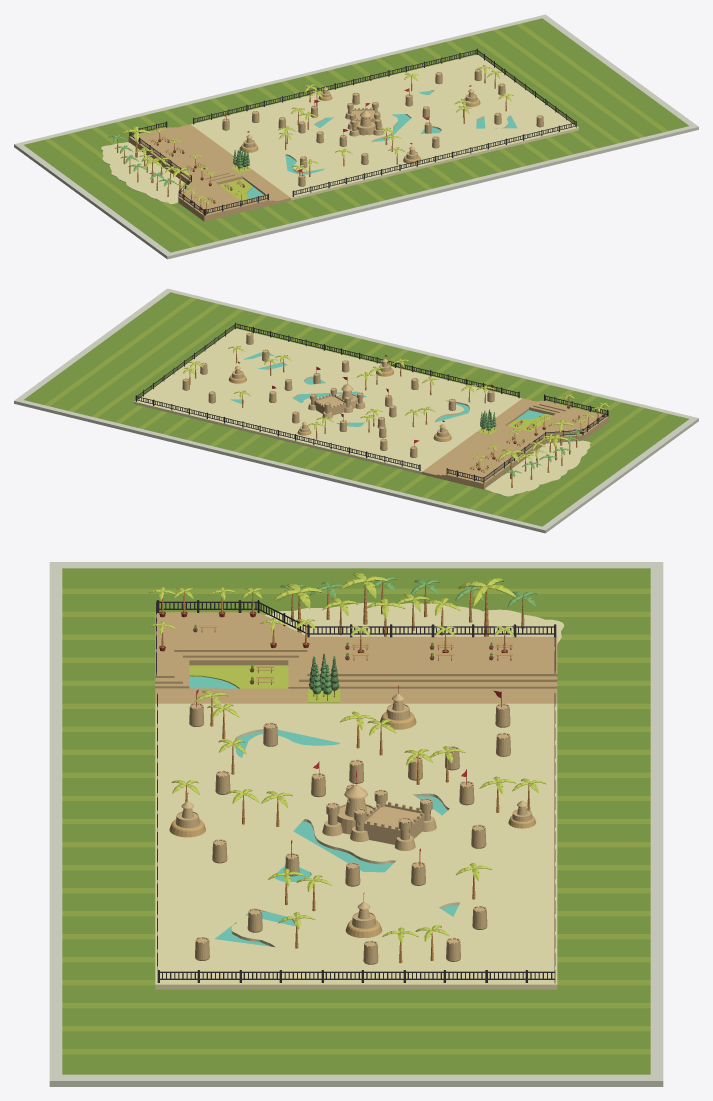
Rendered from D4_SAND_CASTLES.fbx.
The picture shows the model from 3 angles, top to bottom: view 1: azimuth 30°, elevation 25°; view 2: azimuth 150°, elevation 25°; view 3: azimuth 270°, elevation 25°; orthographic projection. The views are drawn at different scales.
Parts seen in each view (by area): view 1: Plane.016, Cube.293, Cube.297, GP_Layer.008, Cube.294, Cube.296, Cube.295; view 2: Plane.016, Cube.293, Cube.297, GP_Layer.008, Cube.296, Cube.294, Cube.295, Cylinder.083; view 3: Plane.016, Cube.293, Cube.297, GP_Layer.008, Cube.295, Cylinder.083, Cube.311, Cylinder.081.
Boxes of the visible parts, <box> form: Plane.016: <box>14,14,698,259</box>; Cube.293: <box>191,54,578,200</box>; Cube.297: <box>128,124,290,221</box>; GP_Layer.008: <box>101,142,186,204</box>; Cube.294: <box>292,122,576,196</box>; Cube.296: <box>193,48,477,124</box>; Cube.295: <box>477,50,576,127</box>; Plane.016: <box>14,288,698,533</box>; Cube.293: <box>134,328,521,474</box>; Cube.297: <box>422,398,609,489</box>; GP_Layer.008: <box>485,440,590,496</box>; Cube.296: <box>135,395,420,470</box>; Cube.294: <box>236,323,519,398</box>; Cube.295: <box>137,322,235,399</box>; Cylinder.083: <box>308,387,352,418</box>; Plane.016: <box>49,562,663,1086</box>; Cube.293: <box>155,703,557,989</box>; Cube.297: <box>155,612,557,703</box>; GP_Layer.008: <box>264,602,564,645</box>; Cube.295: <box>157,970,554,982</box>; Cylinder.083: <box>350,789,436,850</box>; Cube.311: <box>307,624,556,637</box>; Cylinder.081: <box>337,784,376,834</box>.
Bounding box in the file's own units: 20850 × 1250 × 10425.
9 materials, 4 textured.
